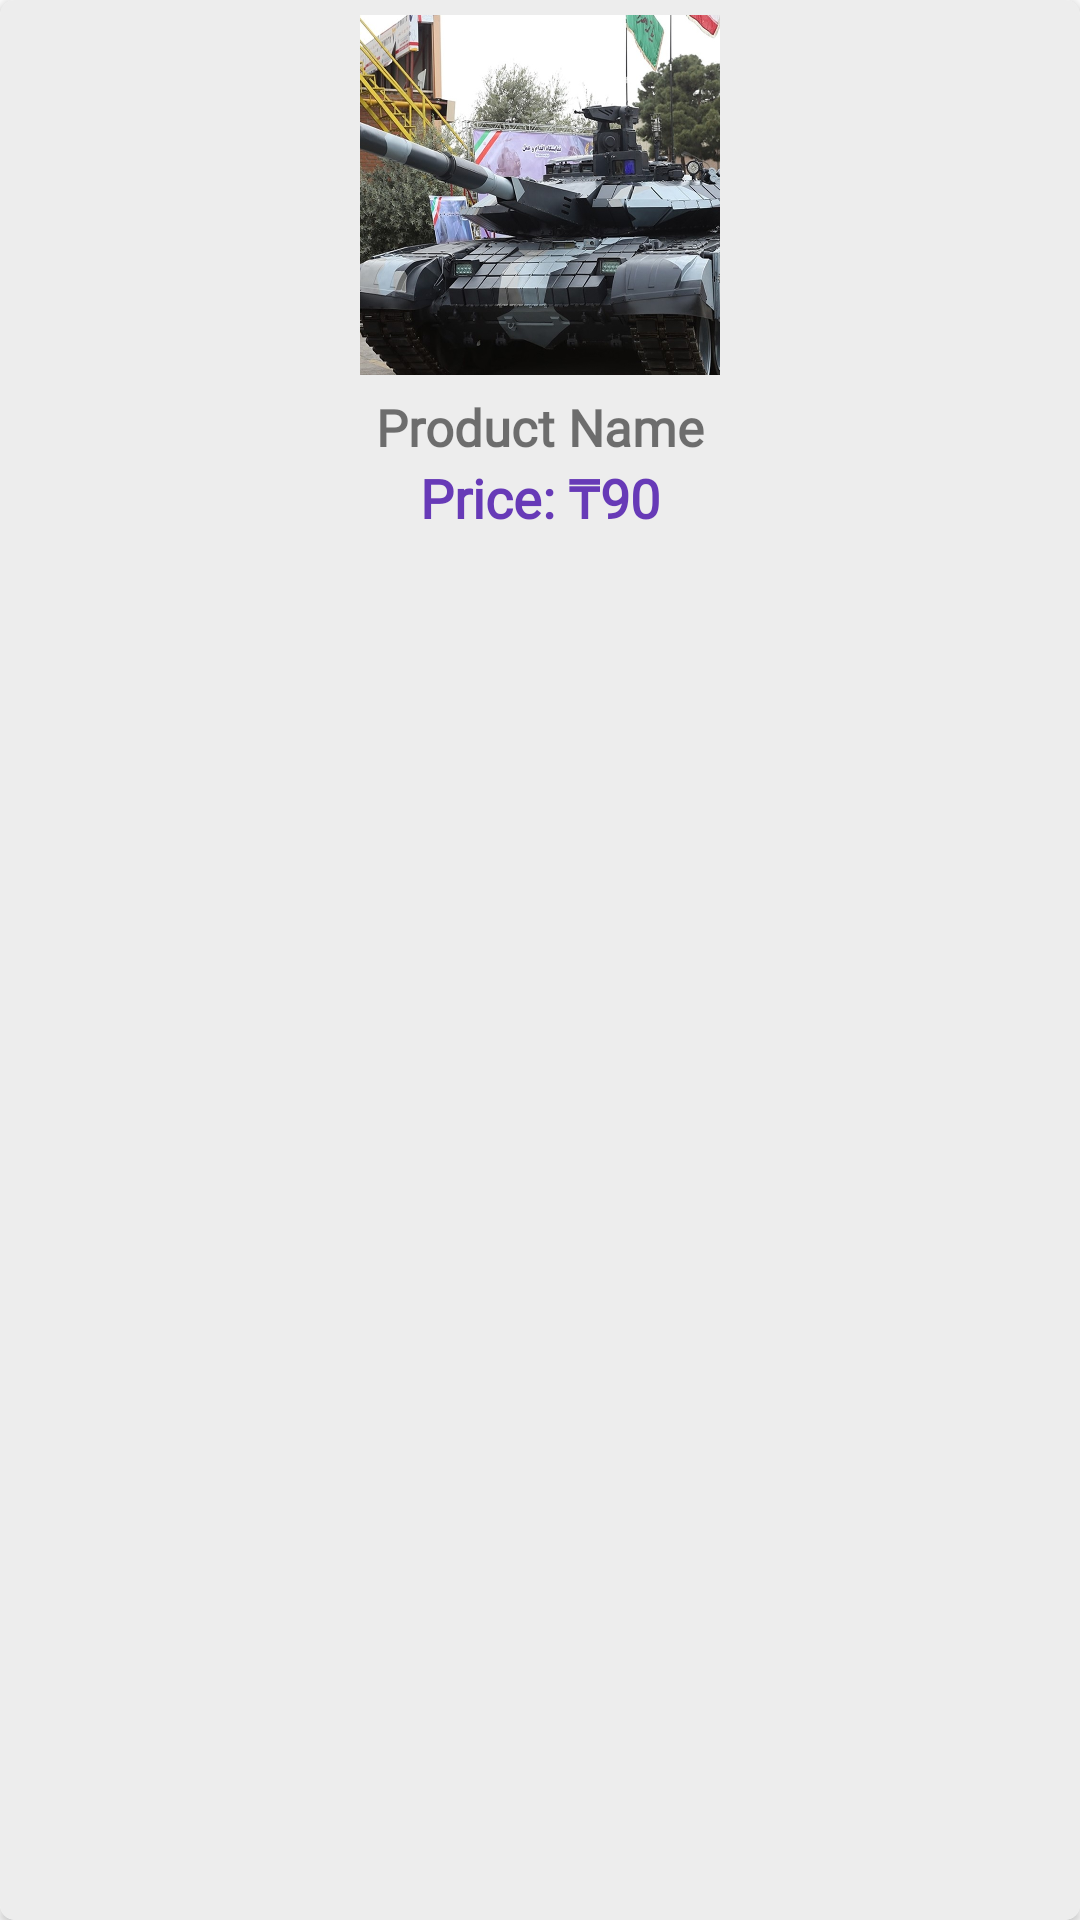

Icon click points for this 1080*1920 phone screenshot, format (x,y):
tank: (540,195)
